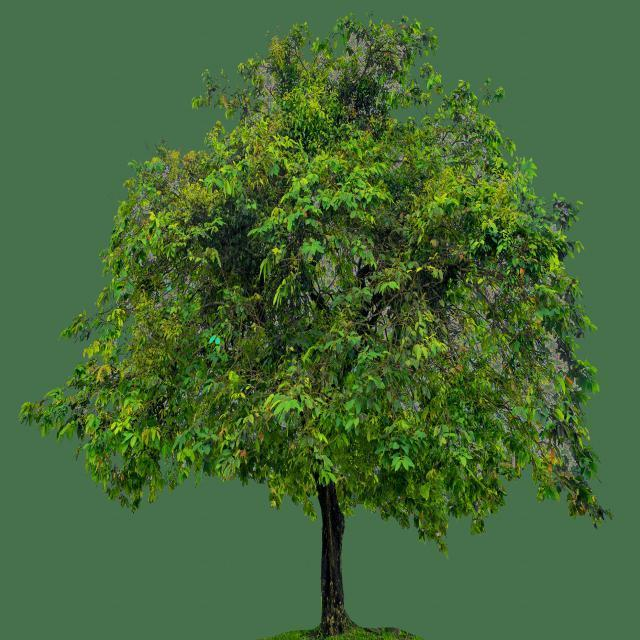tree: (19, 13, 613, 640)
